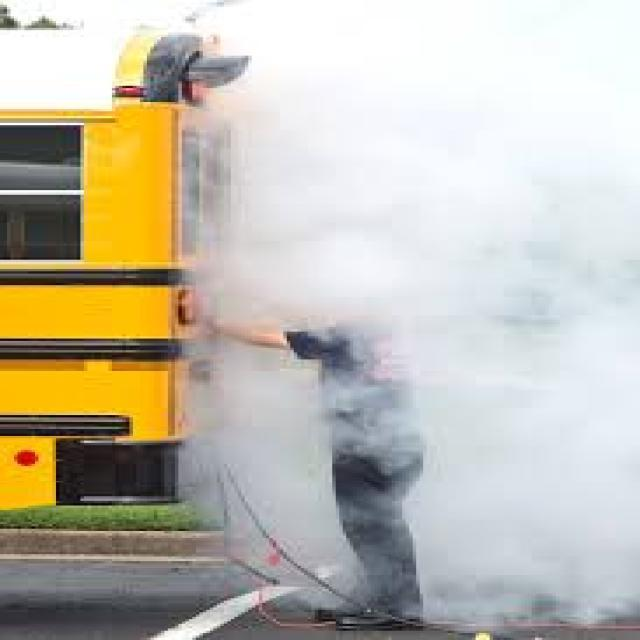Smoke: (172, 0, 640, 636)
